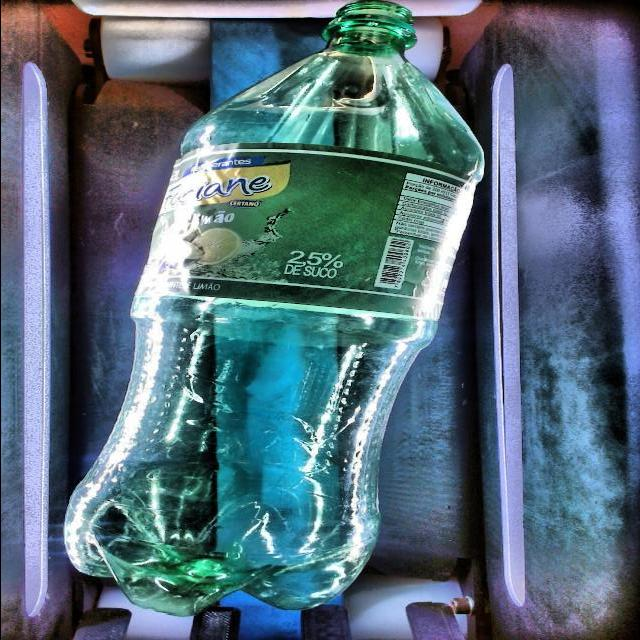bottom: (64, 319, 431, 614)
code: (374, 236, 411, 289)
label: (145, 146, 471, 319)
neck: (181, 2, 482, 182)
